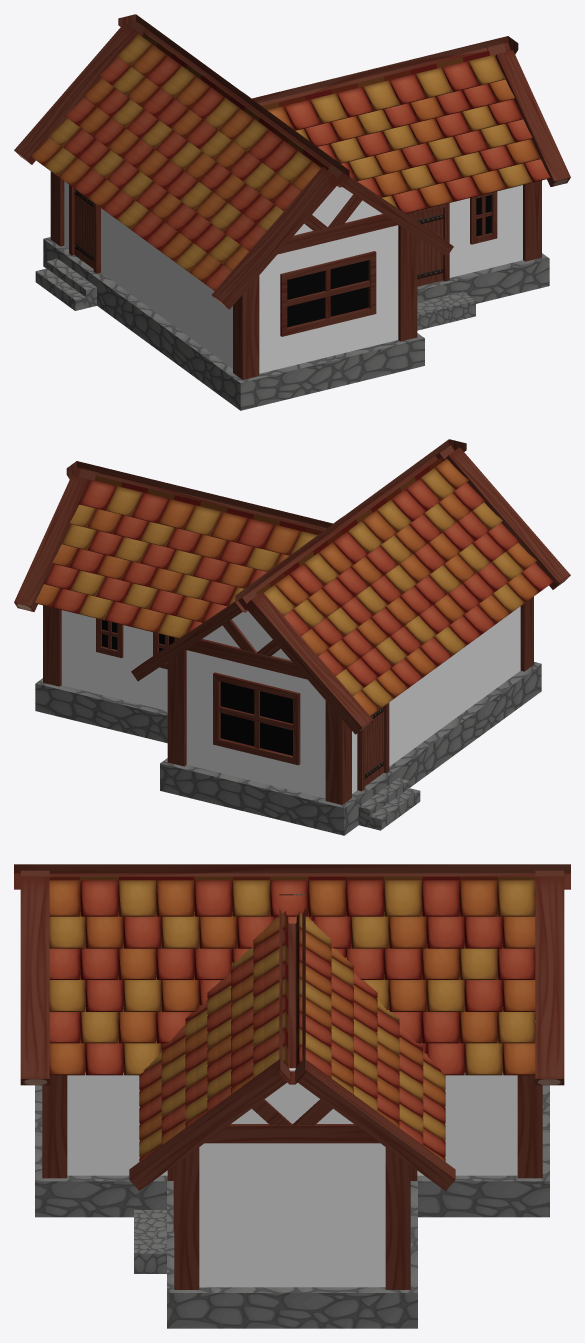
The model's file is House.fbx.
3 renders of one model, top to bottom at view 1: azimuth 30°, elevation 25°; view 2: azimuth 150°, elevation 25°; view 3: azimuth 270°, elevation 25°, orthographic. The views are drawn at different scales.
Parts seen in each view (by area): view 1: Home; view 2: Home; view 3: Home.
Part boxes in pixels (x1,y1,x2,y2): Home: (14, 14, 570, 410); Home: (14, 439, 570, 835); Home: (14, 864, 570, 1328).
Size of the model in its own units: 901 by 483 by 844.
2 materials, 1 textured.
